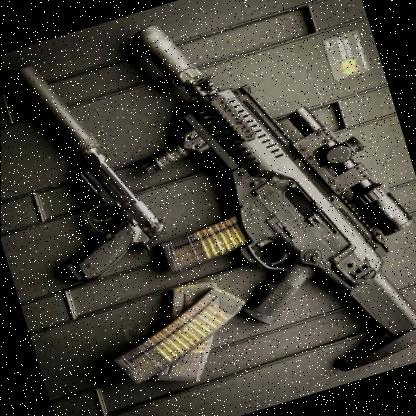rifle: (65, 0, 416, 416), (0, 34, 175, 286)
